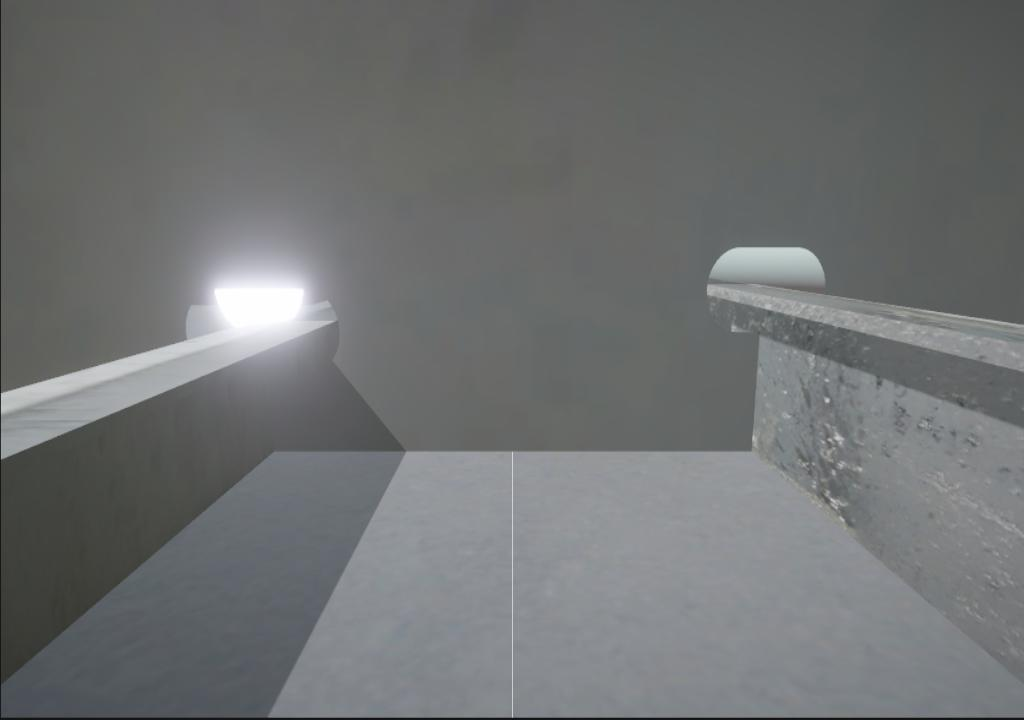fillet_yong_jeop_jang: (271, 440, 763, 464)
longi_yong_jeop_jang: (743, 327, 770, 459), (258, 370, 284, 464)
